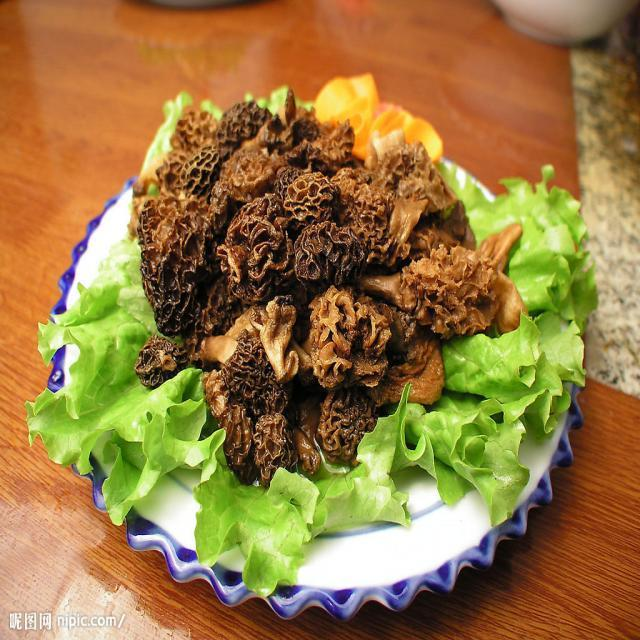Morchella esculenta: (131, 102, 519, 473)
